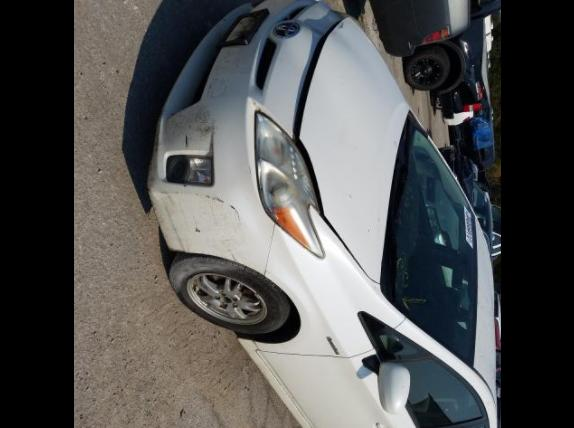Broken part: (288, 15, 372, 280)
Dent: (298, 1, 341, 61)
Flaking: (203, 46, 254, 97)
Missing part: (223, 10, 264, 43)
Paint chip: (336, 17, 346, 29), (193, 223, 202, 234)
Scratch: (148, 184, 241, 226), (163, 105, 213, 139), (226, 242, 240, 257), (184, 134, 186, 148)
